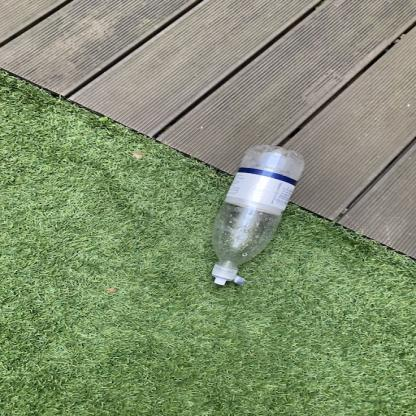trash: (209, 144, 306, 288)
